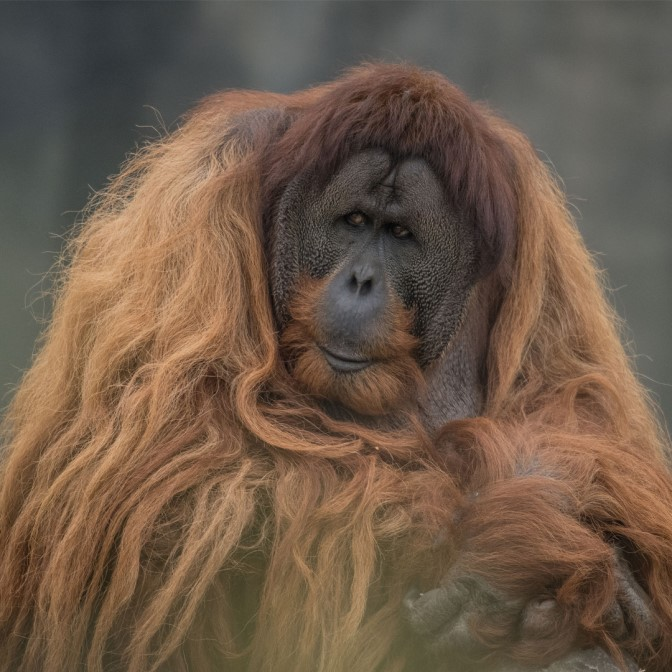Orangutan: (71, 78, 620, 612)
